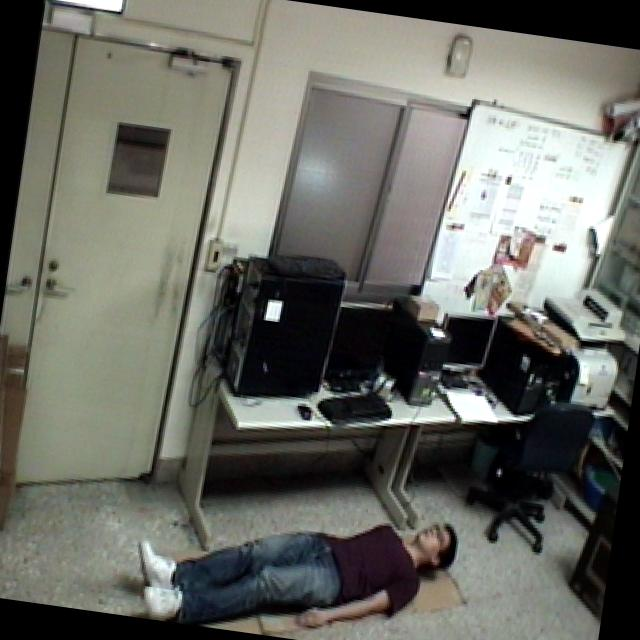lie: (121, 459, 468, 640)
